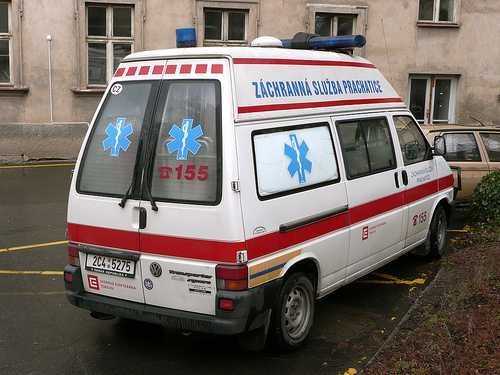Ambulance: (63, 24, 452, 350)
